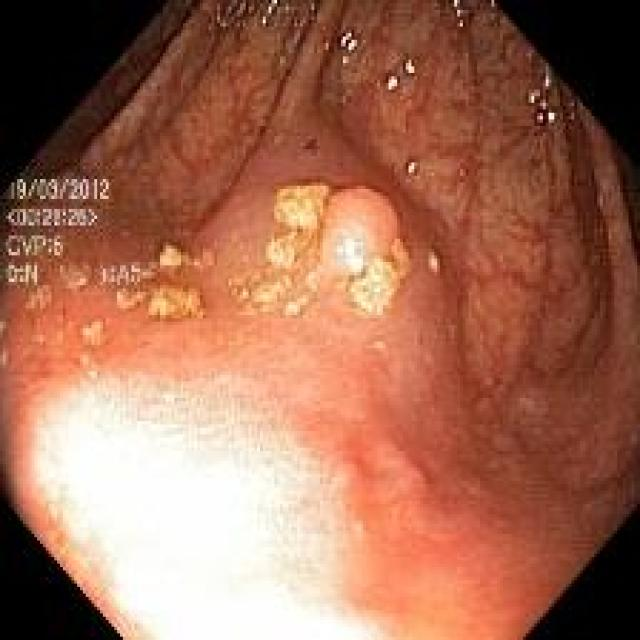Polyps: (320, 187, 399, 281)
